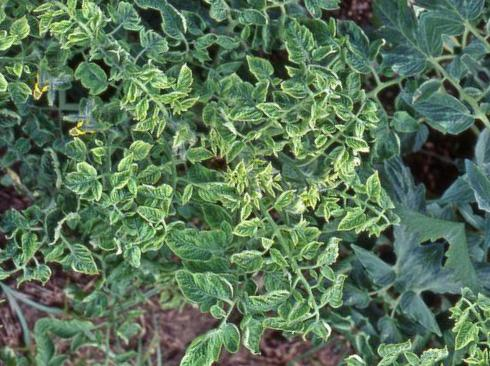Tomato mold leaf: (335, 0, 450, 90), (157, 205, 235, 283), (161, 246, 236, 321), (162, 309, 254, 366), (212, 68, 278, 134), (265, 10, 325, 70), (224, 308, 282, 366), (55, 156, 113, 214), (236, 269, 292, 325), (149, 0, 203, 50), (61, 238, 111, 289), (235, 42, 285, 92), (179, 0, 254, 30), (294, 0, 364, 32), (162, 62, 203, 103), (227, 209, 267, 249), (181, 135, 218, 172), (132, 196, 168, 232), (125, 131, 161, 167), (230, 0, 297, 16), (257, 0, 322, 1)
